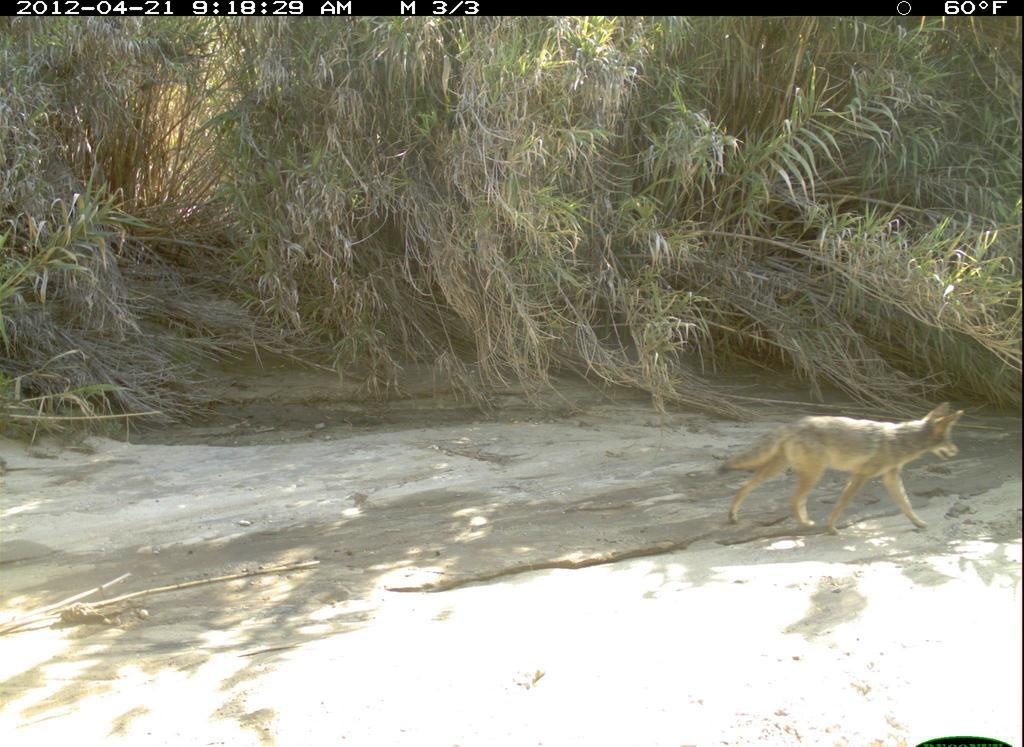coyote: (712, 385, 975, 561)
